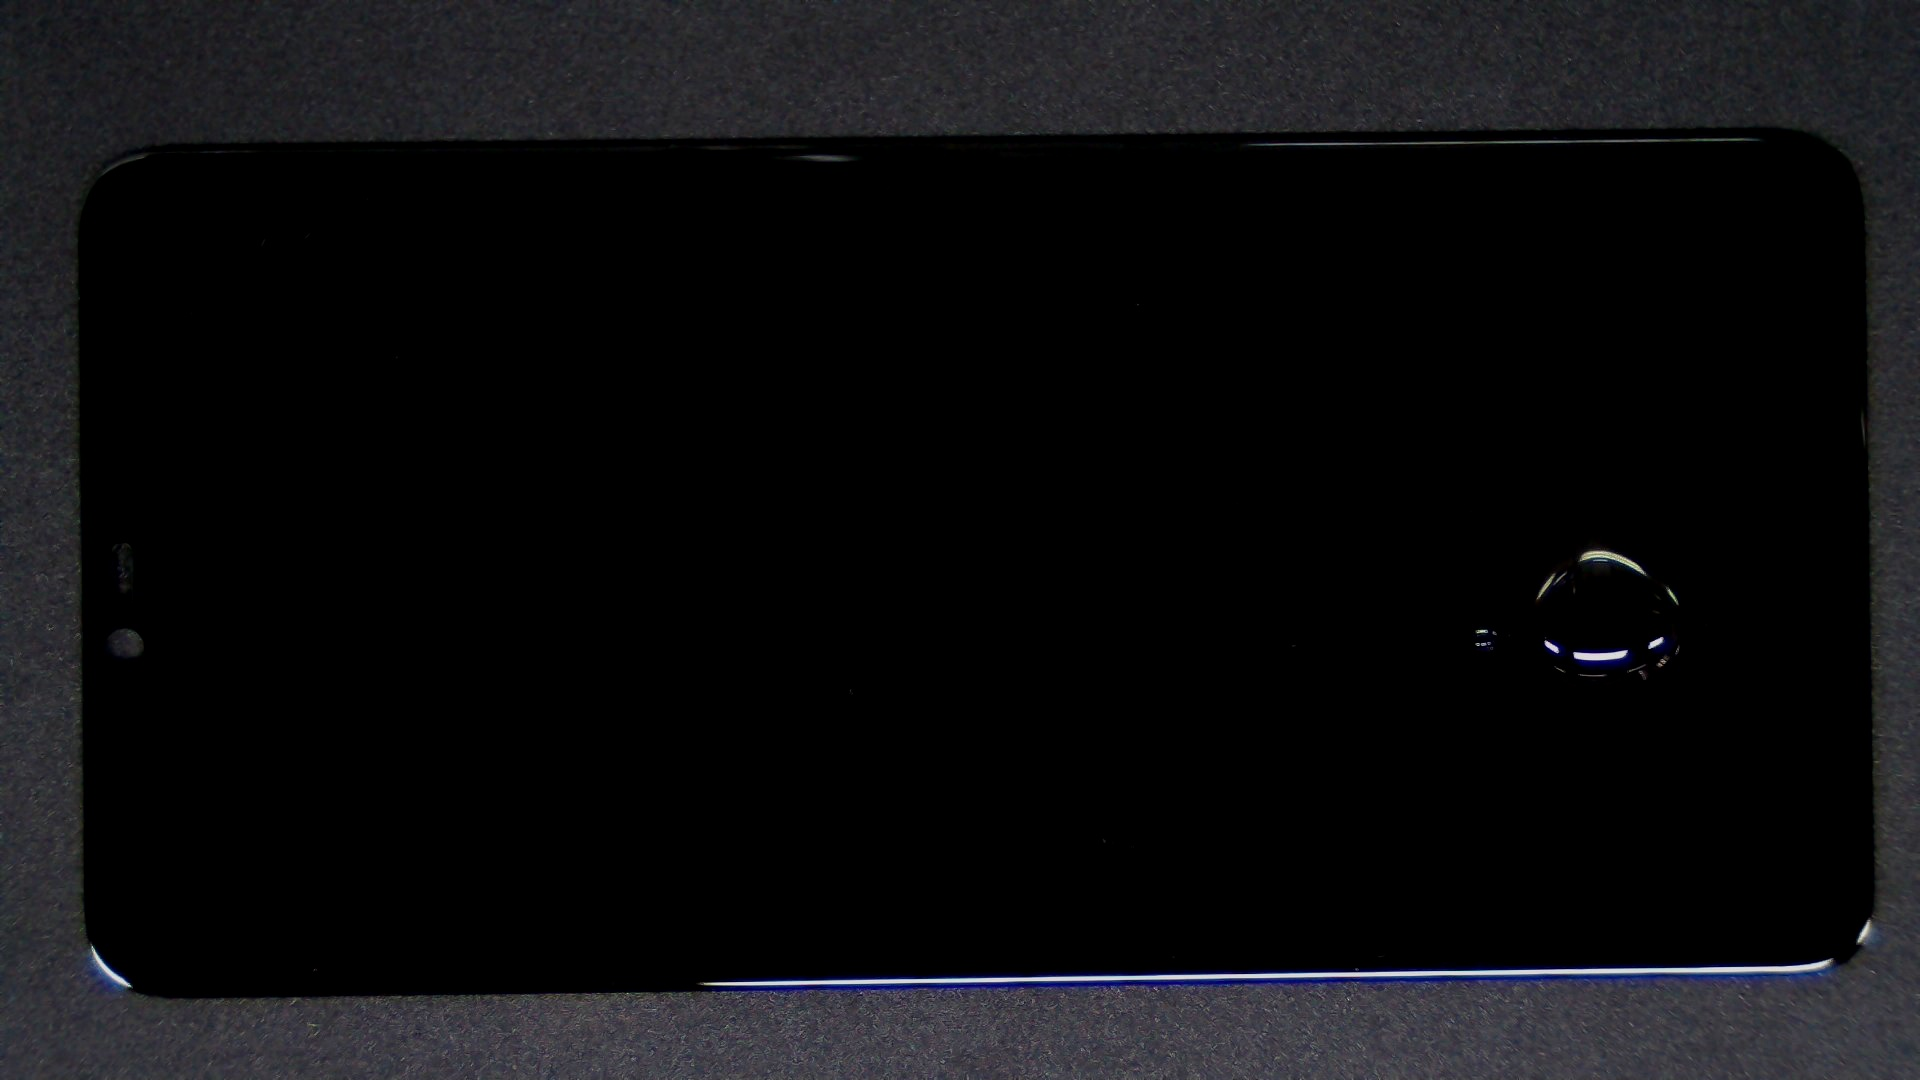oil: (742, 313, 1920, 938), (796, 265, 1920, 799)
